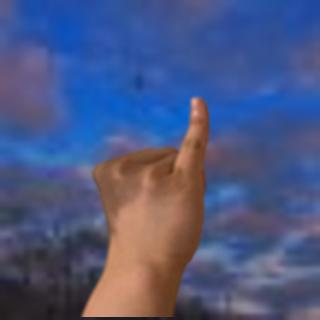FINE: (86, 91, 216, 271)
